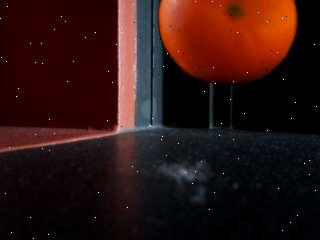Orange: (157, 0, 296, 84)
